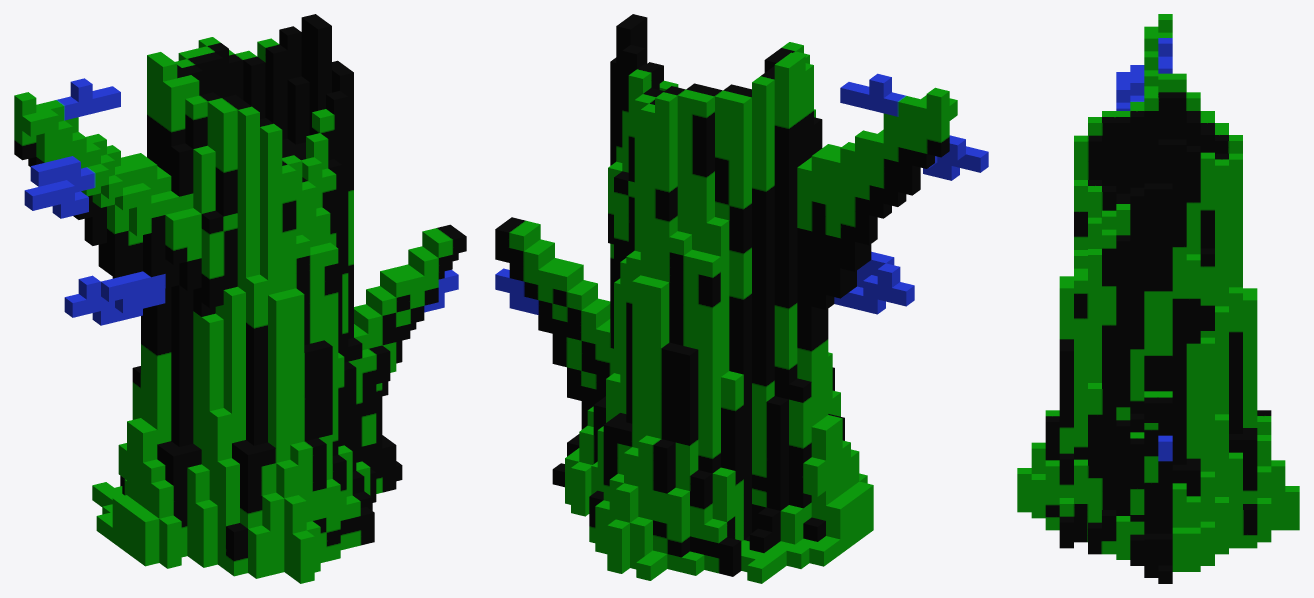
Rendered from TreeGreen.obj.
3 views of the same model, side by side, from view 1: azimuth 30°, elevation 25°; view 2: azimuth 150°, elevation 25°; view 3: azimuth 270°, elevation 25° (orthographic). The views are drawn at different scales.
Visible parts, largest first — view 1: Tree; view 2: Tree; view 3: Tree.
Boxes of the visible parts, box(x1,y1,x2,y2) form: Tree: box(14, 14, 466, 583); Tree: box(495, 14, 988, 583); Tree: box(1017, 14, 1299, 583).
Bounding box in the file's own units: 3.2 × 3.2 × 2.
1 material, 1 textured.
